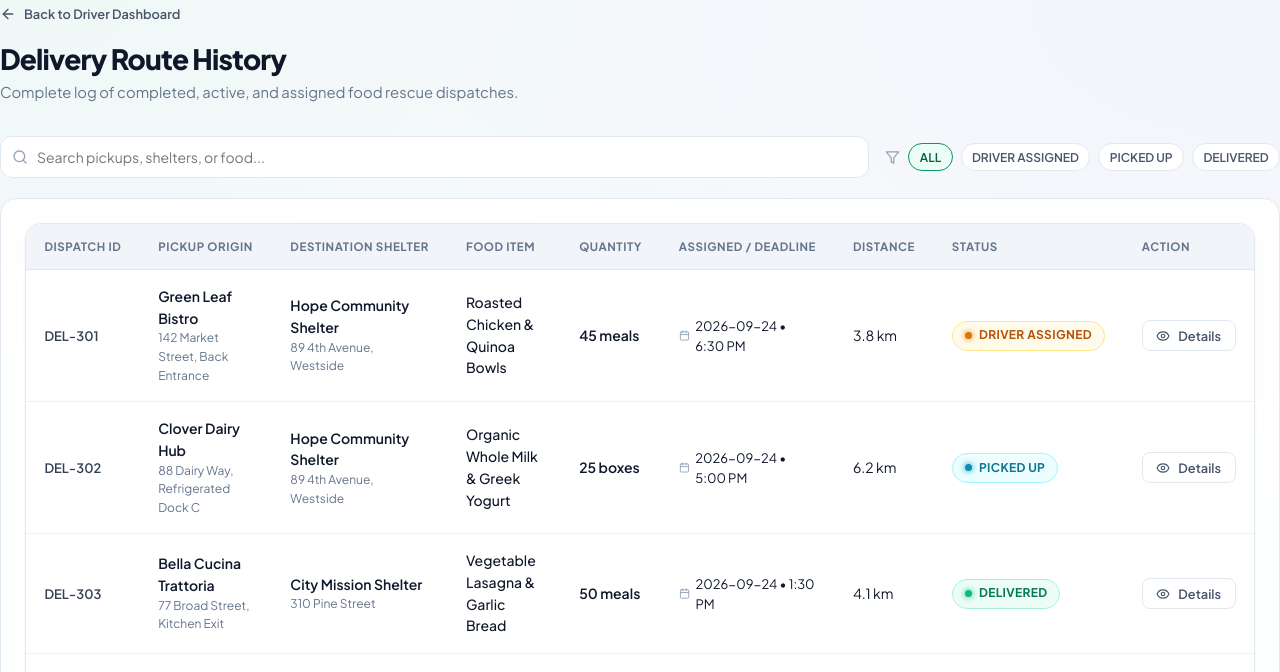
Scenario: DriverDeliveriesPage › shows empty state when search term has no matches
Type "NonExistentFoodItemxyz999" into the field with placeholder "Search pickups, shelters, or food...". click: (435, 157)
box: top-left (0, 136), bottom-right (870, 178)
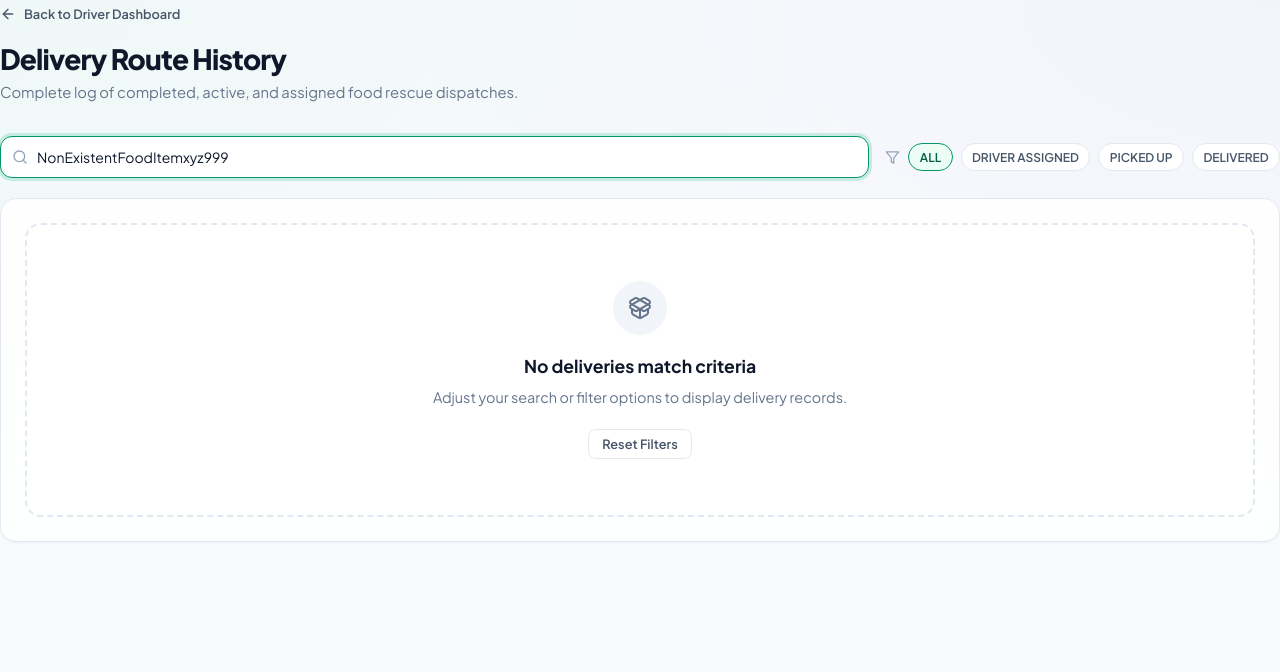
Expected: the heading "No deliveries match criteria" is shown, top-left (524, 353), bottom-right (756, 381)
